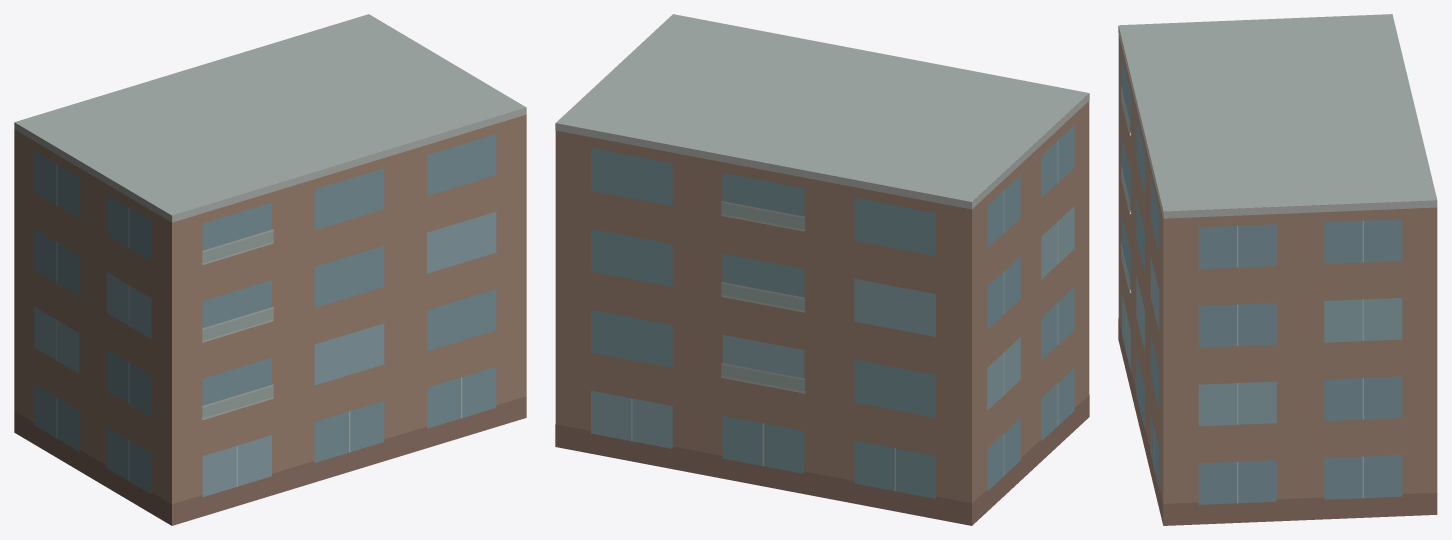
File: survey-upis-32632718.glb
3 views of the same model, side by side, from view 1: azimuth 30°, elevation 25°; view 2: azimuth 150°, elevation 25°; view 3: azimuth 270°, elevation 25° (orthographic). The views are drawn at different scales.
Visible parts, largest first — view 1: survey-upis-32632718.tmp; view 2: survey-upis-32632718.tmp; view 3: survey-upis-32632718.tmp.
Boxes of the visible parts, left/top/right/bottom form: survey-upis-32632718.tmp: left=14, top=14, right=526, bottom=525; survey-upis-32632718.tmp: left=555, top=14, right=1089, bottom=525; survey-upis-32632718.tmp: left=1118, top=14, right=1437, bottom=525.
Bounding box in the file's own units: 14.42 × 10.7 × 9.85.
